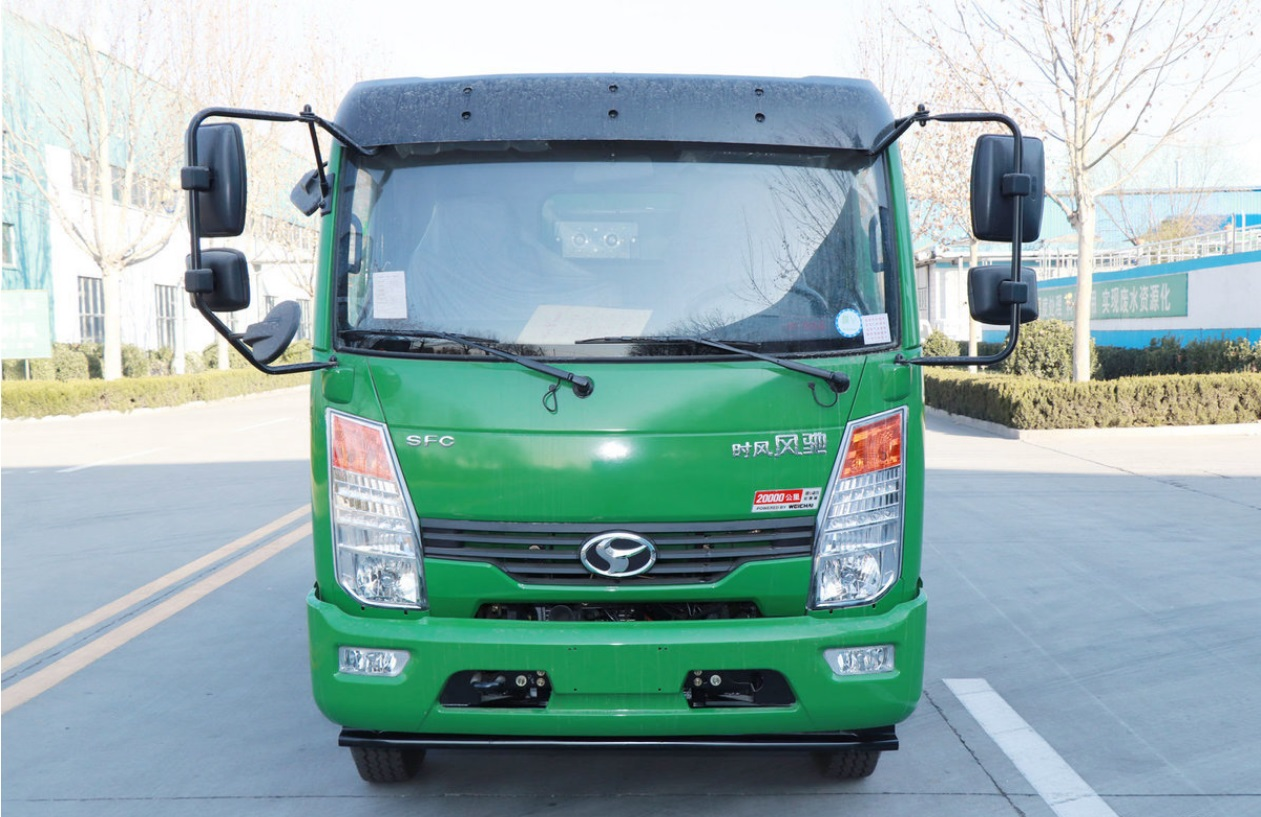truck: (163, 63, 1048, 784)
